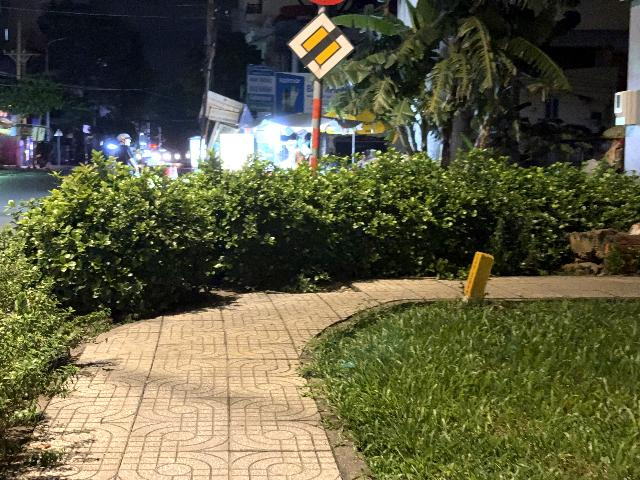het-duong-uu-tien: (286, 12, 355, 81)
